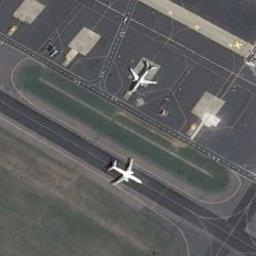Airplane: (105, 154, 147, 190), (127, 56, 161, 94)
